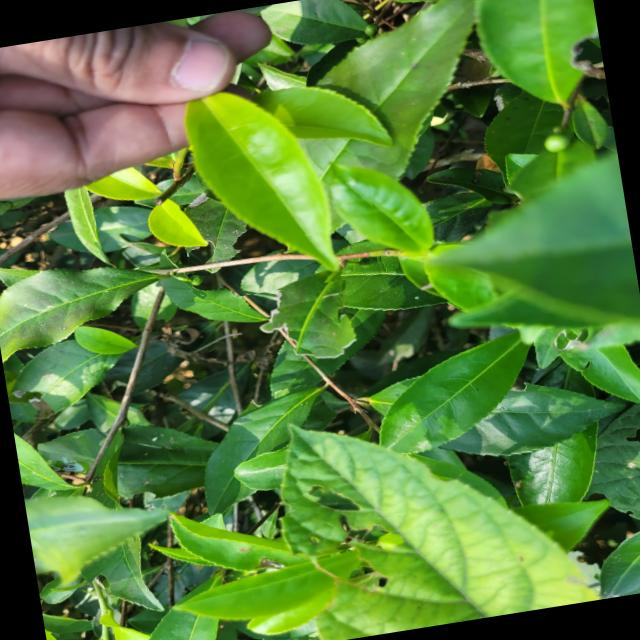Catagory A(1-2 days): (162, 65, 386, 302)
